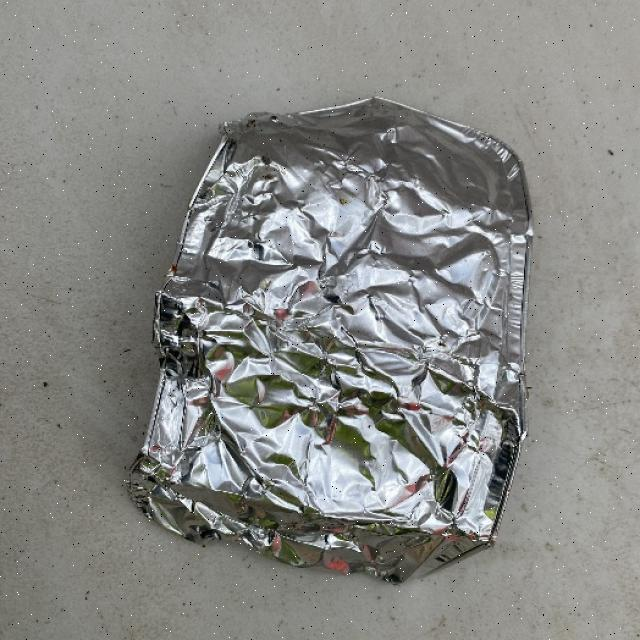metal: (127, 96, 533, 584)
